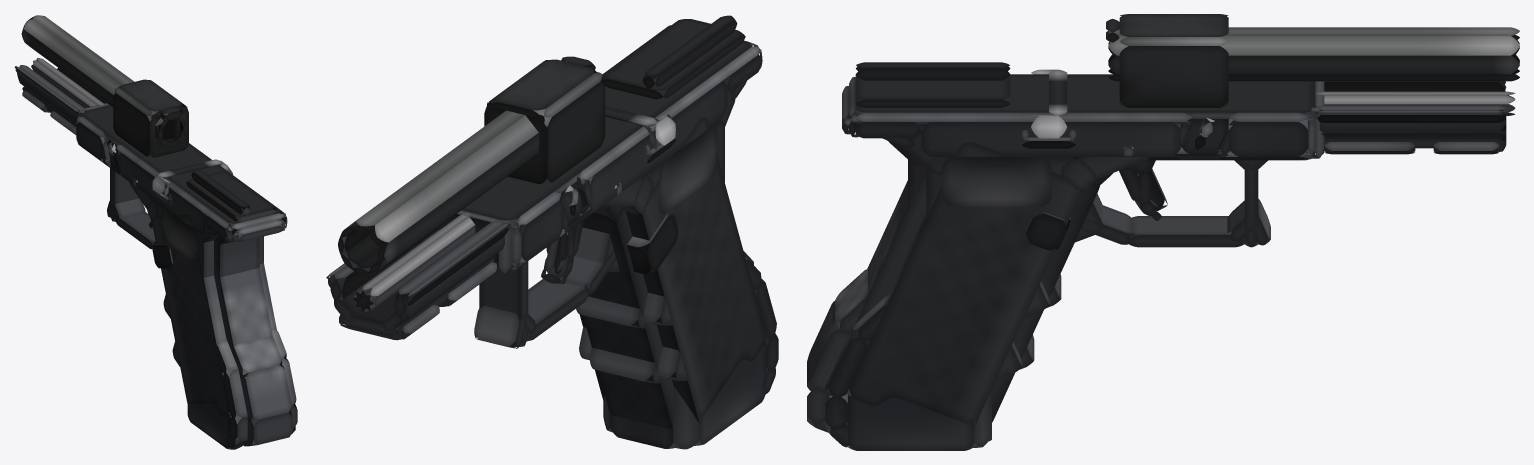
The model's file is glock_17.fbx.
3 renders of one model, left to right at view 1: azimuth 30°, elevation 25°; view 2: azimuth 150°, elevation 25°; view 3: azimuth 270°, elevation 25°, orthographic. The views are drawn at different scales.
Visible parts, largest first — view 1: cube_74, cube_89, cube_13, cube_112, cube_75, cube_39, octagon_8, cube_6, cube_90, cube_82, cube_87, octagon_11 (+23 smaller); view 2: cube_74, cube_89, cube_13, cube_112, octagon_8, cube_39, cube_6, octagon, octagon_11, cube_108, cube_87, octagon_9 (+36 smaller); view 3: cube_74, cube_13, cube_6, cube_112, cube_89, octagon_12, octagon_13, cube_79, cube_101, cube_39, cube_71, cube_23 (+31 smaller).
Boxes of the visible parts, x1=… form: cube_74: x1=151, y1=212, x2=276, y2=414; cube_89: x1=203, y1=213, x2=272, y2=366; cube_13: x1=78, y1=105, x2=282, y2=226; cube_112: x1=113, y1=92, x2=188, y2=157; cube_75: x1=239, y1=364, x2=291, y2=420; cube_39: x1=186, y1=171, x2=276, y2=221; octagon_8: x1=23, y1=18, x2=167, y2=128; cube_6: x1=118, y1=153, x2=204, y2=234; cube_90: x1=214, y1=237, x2=259, y2=277; cube_82: x1=234, y1=336, x2=282, y2=376; cube_87: x1=187, y1=401, x2=239, y2=449; octagon_11: x1=21, y1=28, x2=162, y2=138; cube_74: x1=579, y1=117, x2=765, y2=422; cube_89: x1=582, y1=175, x2=673, y2=429; cube_13: x1=462, y1=26, x2=754, y2=226; cube_112: x1=484, y1=80, x2=605, y2=184; octagon_8: x1=368, y1=109, x2=551, y2=247; cube_39: x1=602, y1=19, x2=745, y2=99; cube_6: x1=581, y1=81, x2=727, y2=213; octagon: x1=353, y1=212, x2=475, y2=312; octagon_11: x1=377, y1=126, x2=547, y2=264; cube_108: x1=491, y1=59, x2=597, y2=118; cube_87: x1=693, y1=341, x2=766, y2=445; octagon_9: x1=351, y1=110, x2=524, y2=232; cube_74: x1=847, y1=142, x2=1082, y2=426; cube_13: x1=855, y1=74, x2=1315, y2=118; cube_6: x1=921, y1=122, x2=1180, y2=156; cube_112: x1=1119, y1=46, x2=1228, y2=107; cube_89: x1=850, y1=169, x2=1099, y2=422; octagon_12: x1=1108, y1=36, x2=1519, y2=56; octagon_13: x1=1108, y1=54, x2=1519, y2=74; cube_79: x1=848, y1=395, x2=973, y2=450; cube_101: x1=942, y1=157, x2=1051, y2=206; cube_39: x1=855, y1=74, x2=1010, y2=107; cube_71: x1=1129, y1=216, x2=1244, y2=247; cube_23: x1=856, y1=112, x2=1192, y2=124.
Bounding box in the file's own units: 21.74 × 76.42 × 122.
Materials: 1 (1 with a texture image).
